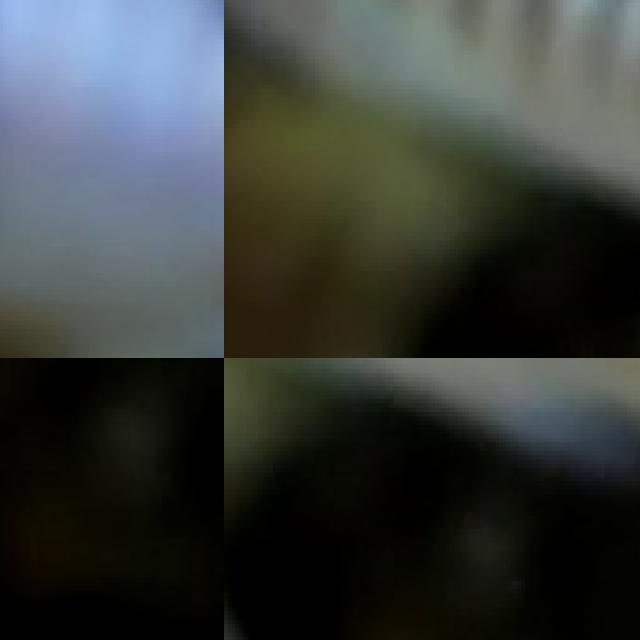fish: (224, 0, 640, 336), (0, 0, 224, 358), (224, 358, 640, 516)
